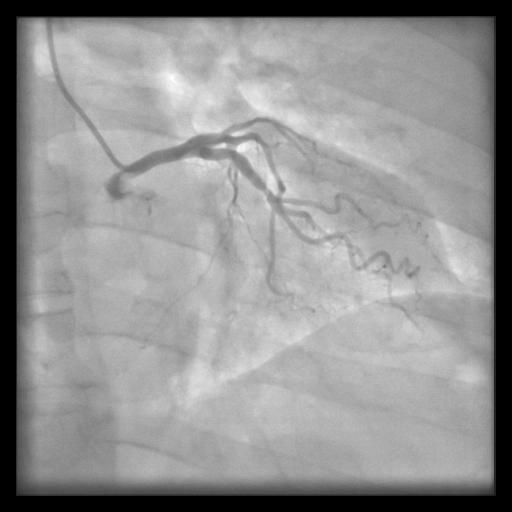Stenosis: (261, 181, 270, 197)
